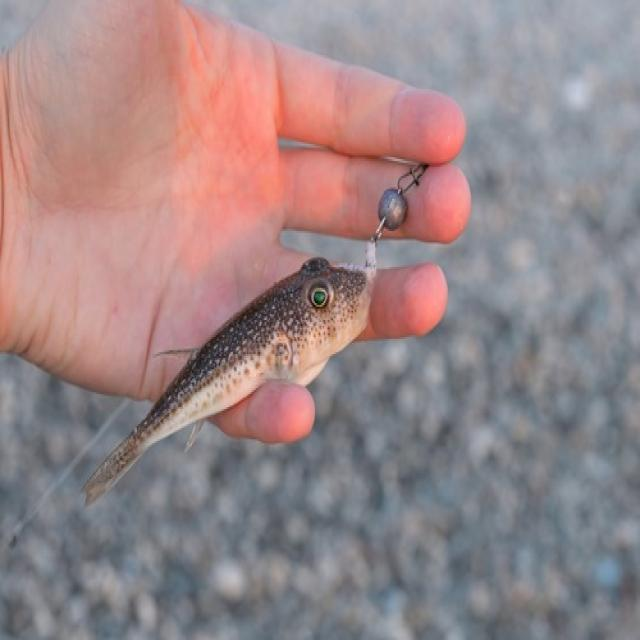Balik: (85, 243, 376, 505)
